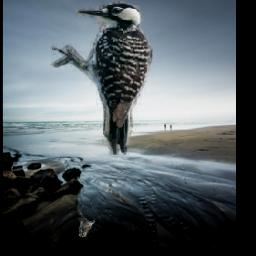Sparrow: (78, 219, 95, 238)
Woodpecker: (49, 2, 156, 156)
